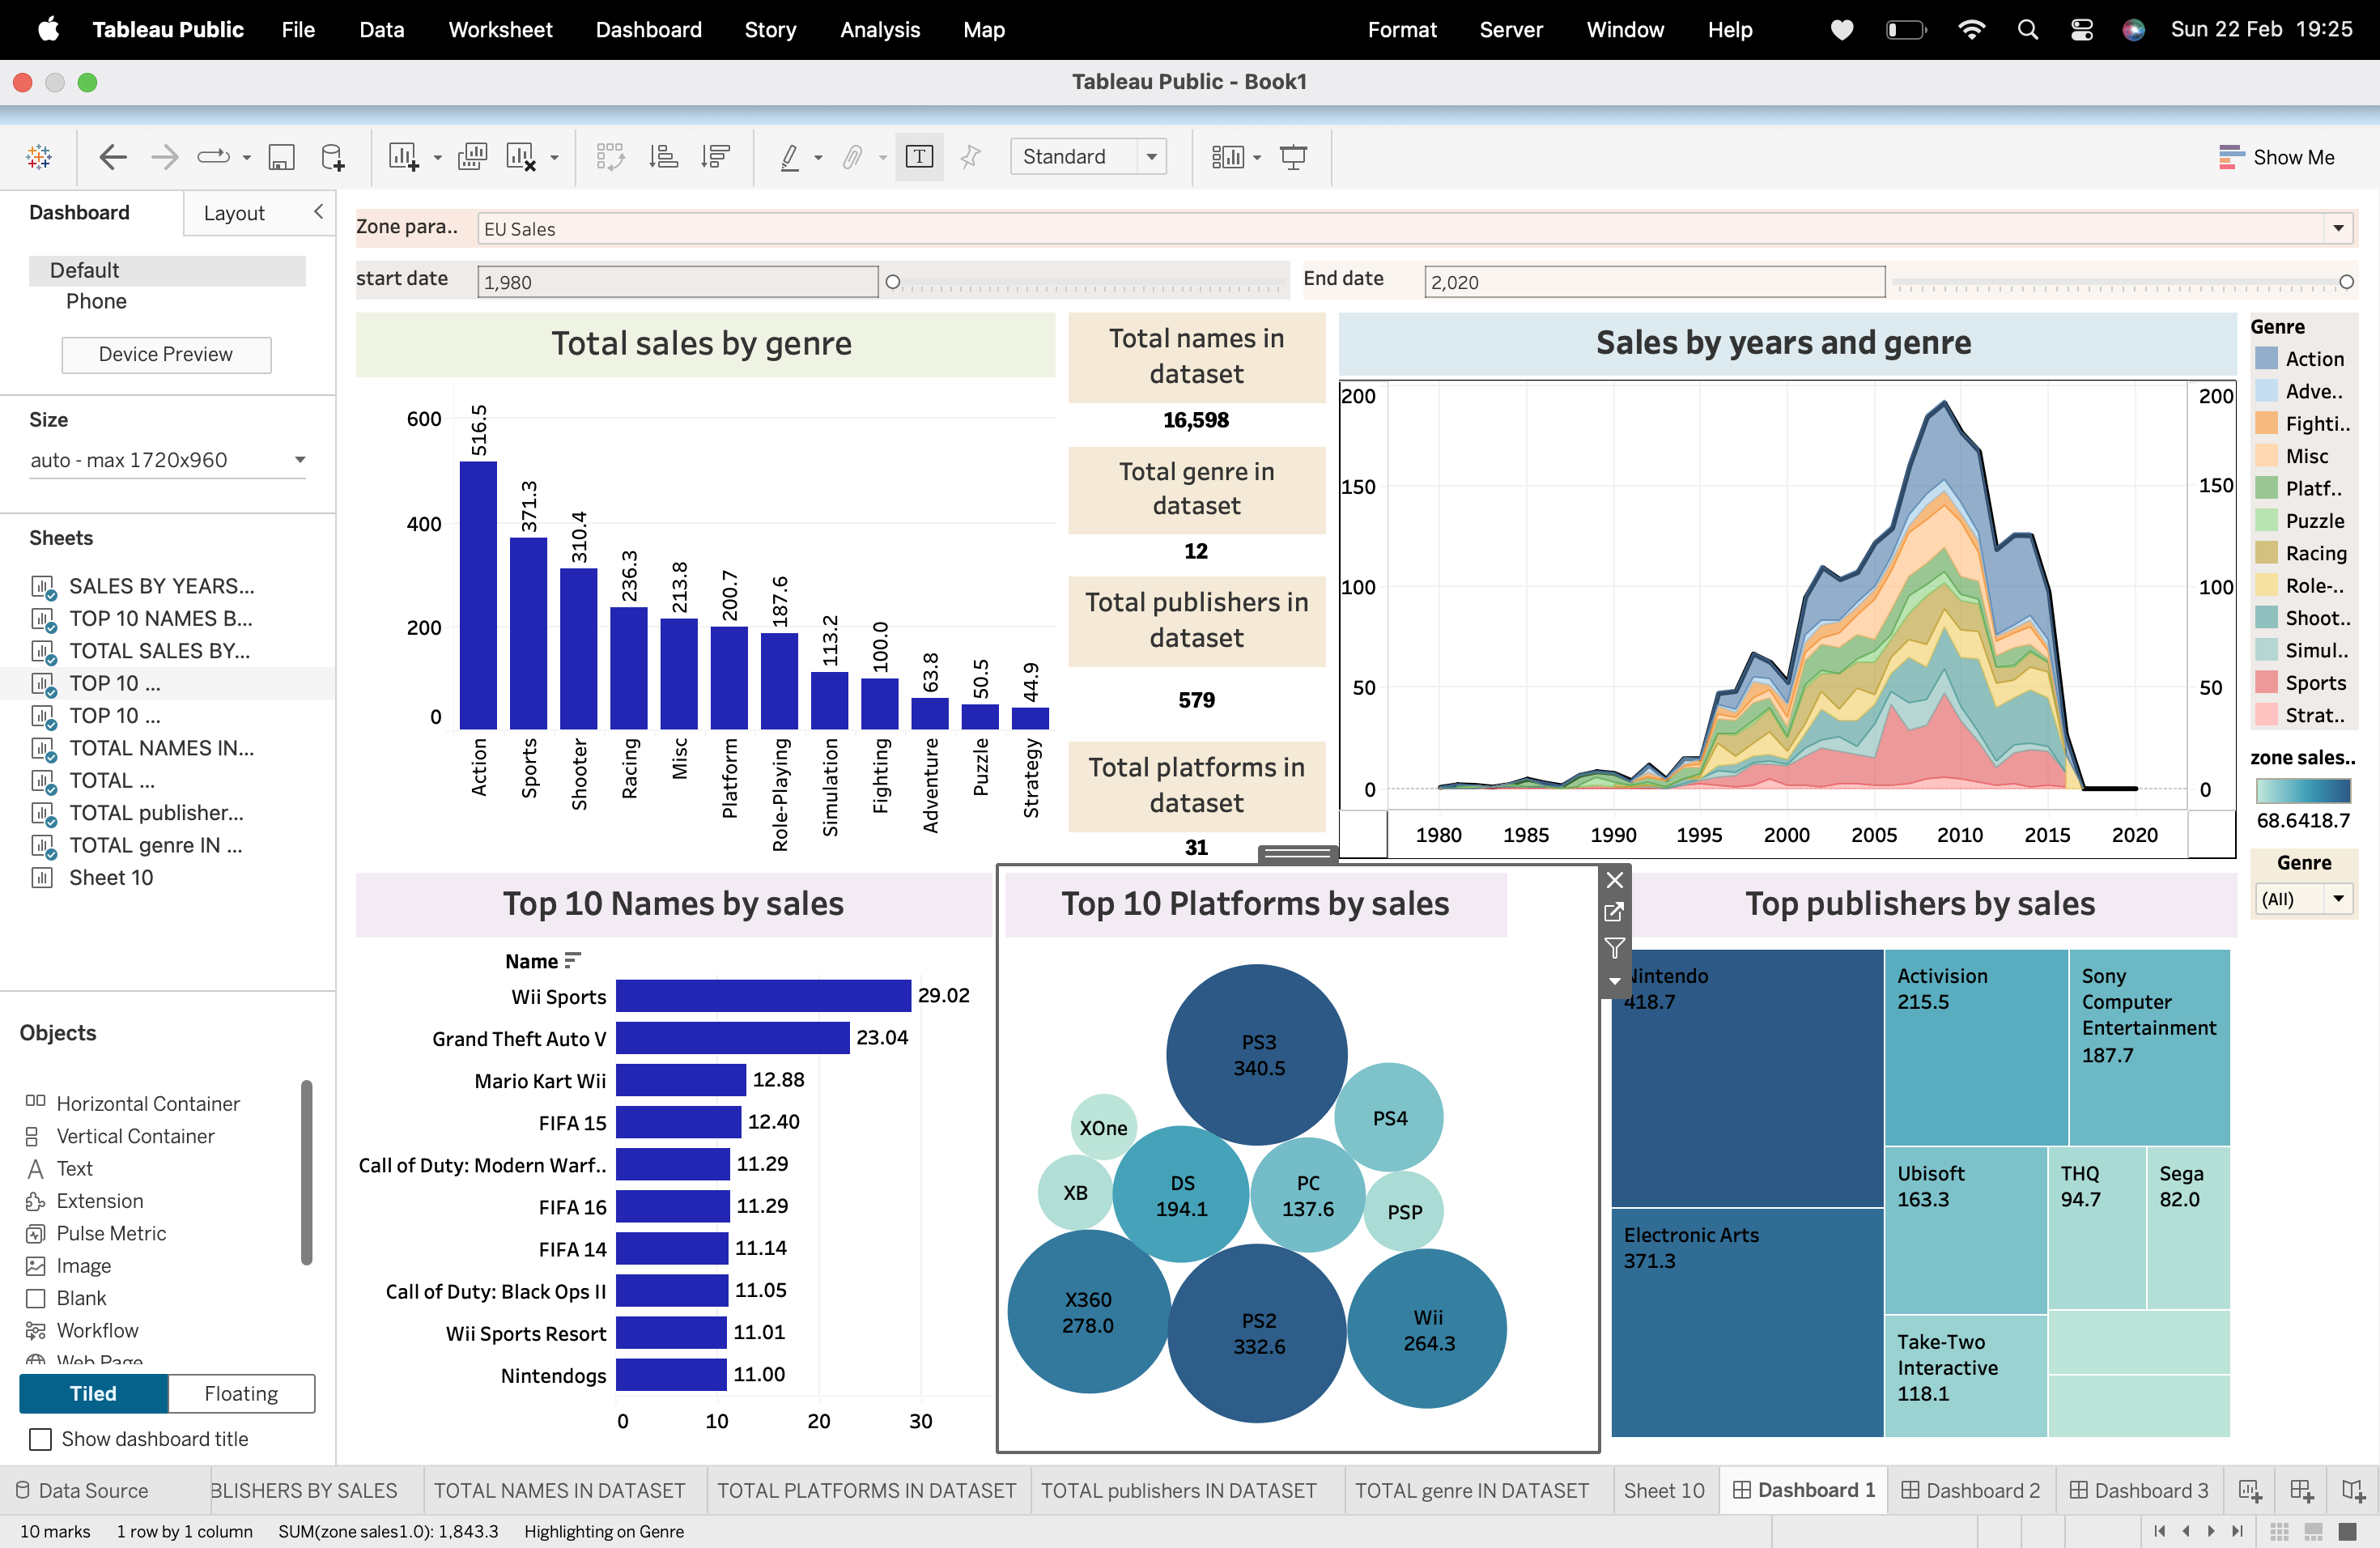

Layout of this report page (visuals, bound fields, positions):
{"tool":"tableau","page":{"name":"Dashboard 1","canvas":[1000,1000],"units":"permille","ordinal":0},"visuals":[{"type":"parameter","param":"[Parameters].[Parameter 1]","box":[6.3,10.2,987.3,40.6]},{"type":"parameter","param":"[Parameters].[Parameter 2]","box":[6.3,50.8,463.9,40.6]},{"type":"parameter","param":"[Parameters].[Parameter 3]","box":[470.2,50.8,523.5,40.6]},{"type":"worksheet","title":"TOTAL SALES BY GENRE ","mark":"Automatic","rows":["Calculation_2379659637465090"],"cols":["Genre"],"box":[6.3,91.4,348.9,439.7]},{"type":"worksheet","title":"TOTAL NAMES IN DATASET","mark":"Automatic","box":[355.2,91.4,132.4,105.5]},{"type":"worksheet","title":"SALES BY YEARS AND GENRE","mark":"Line","rows":["Calculation_2379659637465090","Calculation_2379659637465090"],"cols":["Year"],"box":[487.7,91.4,446.5,439.7]},{"type":"legend","title":"SALES BY YEARS AND GENRE","param":"[federated.1u4nggi119yz4h1gnwfr41m2jvo3].[none:Genre:nk]","box":[934.2,91.4,59.5,338]},{"type":"worksheet","title":"TOTAL genre IN DATASET ","mark":"Automatic","box":[355.2,196.9,132.4,101.6]},{"type":"worksheet","title":"TOTAL publishers IN DATASET ","mark":"Automatic","box":[355.2,298.6,132.4,129.7]},{"type":"worksheet","title":"TOTAL PLATFORMS IN DATASET ","mark":"Automatic","box":[355.2,428.2,132.4,102.9]},{"type":"legend","title":"TOP 10 PUBLISHERS BY SALES ","param":"[federated.1u4nggi119yz4h1gnwfr41m2jvo3].[sum:Calculation_2379659637465090:qk]","box":[934.2,429.4,59.5,82.6]},{"type":"filter","title":"SALES BY YEARS AND GENRE","param":"[federated.1u4nggi119yz4h1gnwfr41m2jvo3].[none:Genre:nk]","box":[934.2,512,59.5,66.1]},{"type":"worksheet","title":"TOP 10 NAMES BY SALES","mark":"Automatic","rows":["Name"],"cols":["Calculation_2379659637465090"],"box":[6.3,531.1,317.9,458.7]},{"type":"worksheet","title":"TOP 10 PLATFORMS BY SALES","mark":"Circle","box":[324.3,531.1,293.4,458.7]},{"type":"worksheet","title":"TOP 10 PUBLISHERS BY SALES ","mark":"Automatic","box":[617.7,531.1,316.5,458.7]}]}

Visuals, with their boxes on the dashboard's canvas, which has no fixed pixel size, in thousandths of its width and height (x1, y1, x2, y2). These are canvas units, not pixel positions in the 2380x1548 screenshot, which may show the page scaled, cropped or inside an application window:
parameter: <bbox>6, 10, 994, 51</bbox>
parameter: <bbox>6, 51, 470, 91</bbox>
parameter: <bbox>470, 51, 994, 91</bbox>
"TOTAL SALES BY GENRE " worksheet: <bbox>6, 91, 355, 531</bbox>
"TOTAL NAMES IN DATASET" worksheet: <bbox>355, 91, 488, 197</bbox>
"SALES BY YEARS AND GENRE" worksheet (Line marks): <bbox>488, 91, 934, 531</bbox>
"SALES BY YEARS AND GENRE" legend: <bbox>934, 91, 994, 429</bbox>
"TOTAL genre IN DATASET " worksheet: <bbox>355, 197, 488, 298</bbox>
"TOTAL publishers IN DATASET " worksheet: <bbox>355, 299, 488, 428</bbox>
"TOTAL PLATFORMS IN DATASET " worksheet: <bbox>355, 428, 488, 531</bbox>
"TOP 10 PUBLISHERS BY SALES " legend: <bbox>934, 429, 994, 512</bbox>
"SALES BY YEARS AND GENRE" filter: <bbox>934, 512, 994, 578</bbox>
"TOP 10 NAMES BY SALES" worksheet: <bbox>6, 531, 324, 990</bbox>
"TOP 10 PLATFORMS BY SALES" worksheet (Circle marks): <bbox>324, 531, 618, 990</bbox>
"TOP 10 PUBLISHERS BY SALES " worksheet: <bbox>618, 531, 934, 990</bbox>
